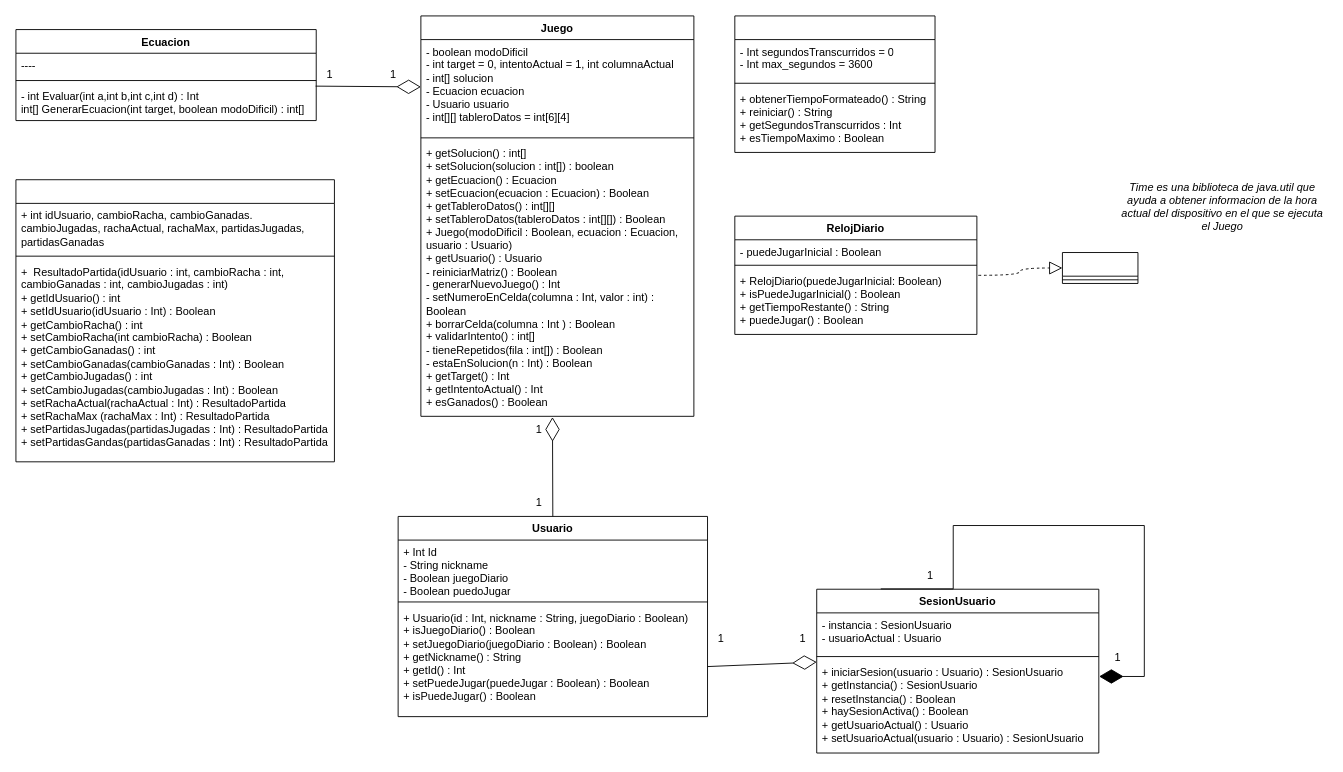
Some shapes in this 1343 by 772 pixel diagram are drawn without their labels. Here are the shapes that lost their labels. From the top down, the box of each, then its label:
(734, 15, 935, 152): Cronometrojuego
(1062, 252, 1138, 283): Time
(15, 179, 334, 462): ResultadosPartida
